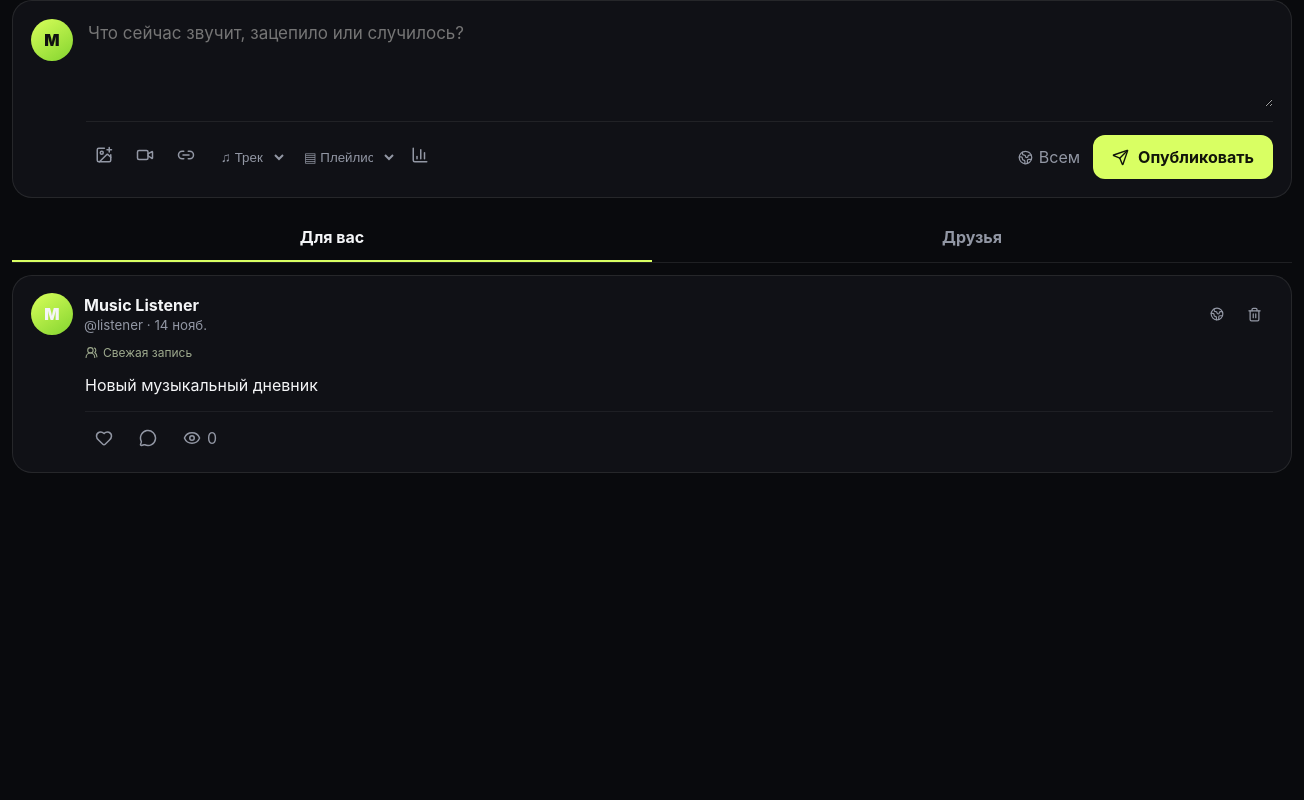
Test: SocialFeedPage › loads the personalized feed and publishes a post
The image size is (1304, 800).
Expected: the text "Новый музыкальный дневник" is shown, [85,375,318,395]
Step 1. Type "Вторая запись" into the text box with placeholder "Что сейчас звучит, зацепило или случилось?" → point(680, 63), box [86,19,1273,107]
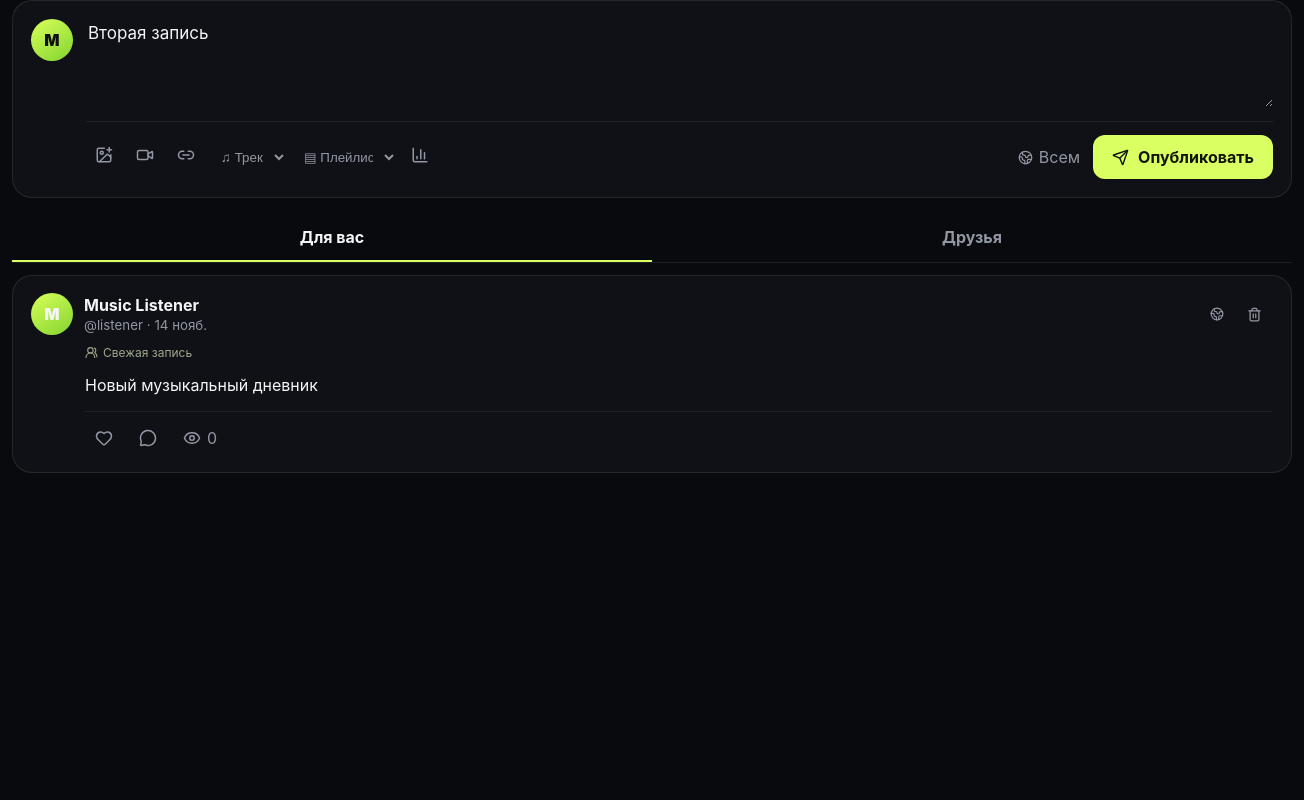
Step 2. Click the button "Опубликовать" → point(1183, 157), box [1093,135,1273,179]
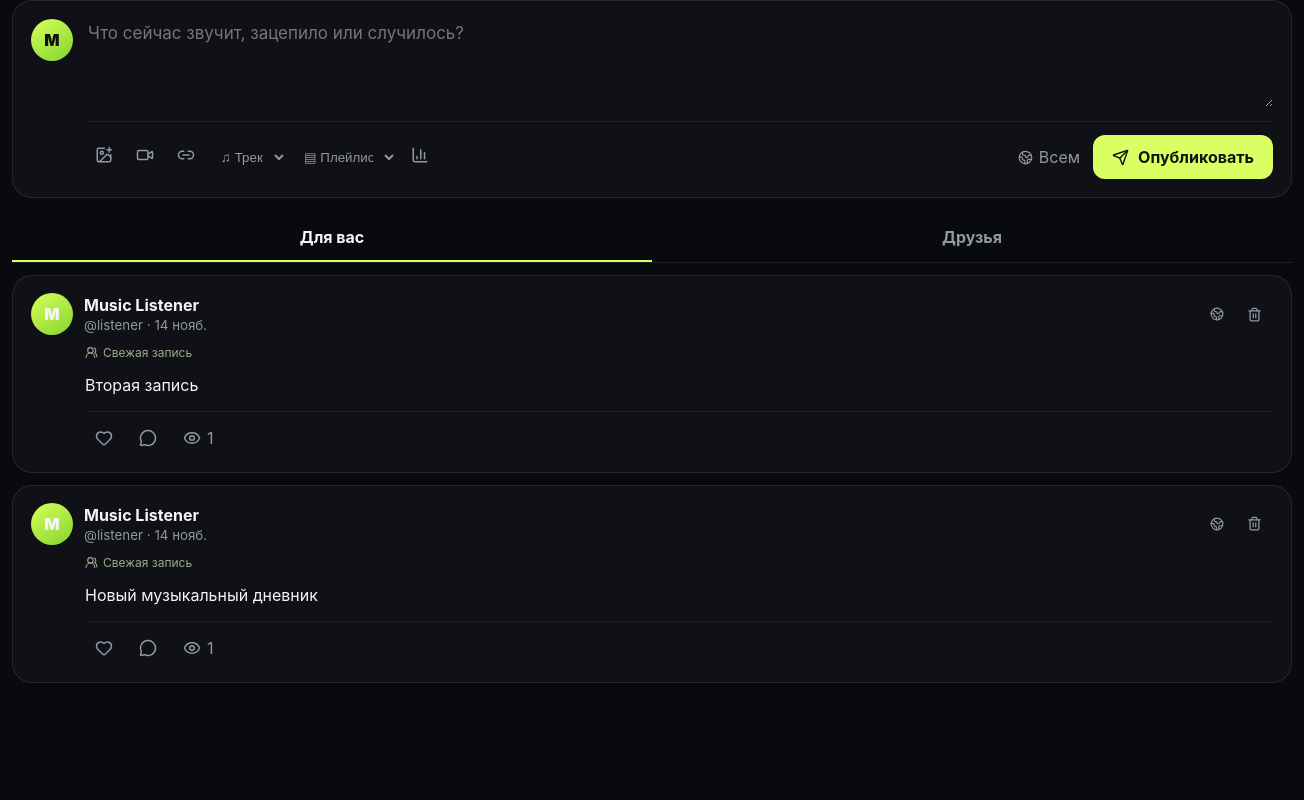
Result: the text "Вторая запись" is shown at [85,375,198,395]
